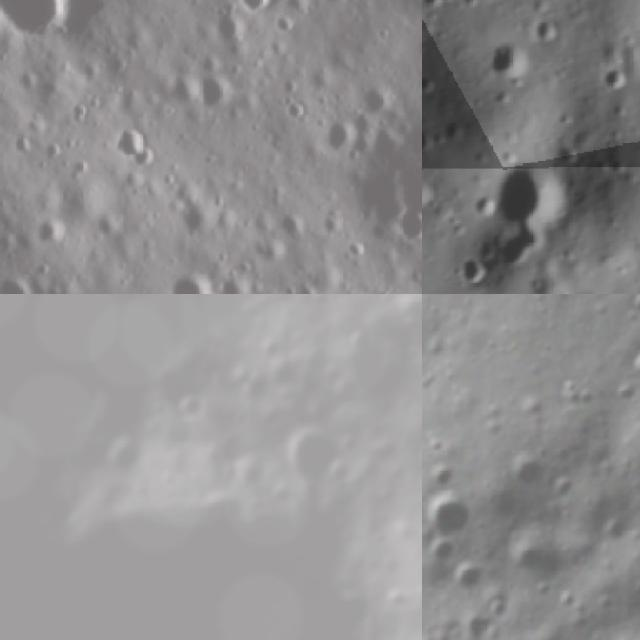crater: (336, 105, 422, 278), (0, 0, 123, 71), (482, 152, 576, 222), (278, 421, 352, 495), (100, 107, 170, 180), (177, 55, 240, 120), (422, 488, 480, 553), (149, 247, 229, 294), (195, 0, 255, 60), (491, 222, 556, 274), (496, 444, 550, 497), (442, 553, 491, 602), (480, 39, 532, 83), (163, 388, 210, 428), (422, 455, 461, 498), (223, 0, 289, 23), (423, 533, 460, 573), (595, 61, 631, 98), (450, 253, 484, 292), (480, 589, 514, 626), (529, 13, 567, 46), (598, 517, 632, 553), (455, 610, 495, 640), (626, 342, 640, 384), (620, 294, 640, 323), (422, 173, 436, 213), (422, 125, 437, 157), (586, 294, 620, 305)
